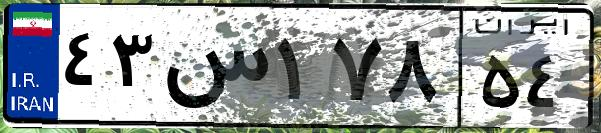1: (270, 28, 330, 110)
3: (110, 28, 158, 98)
4: (57, 26, 110, 100), (525, 38, 570, 115)
5: (475, 38, 525, 113)
7: (330, 28, 385, 110)
8: (385, 28, 445, 110)
س: (158, 20, 270, 120)
